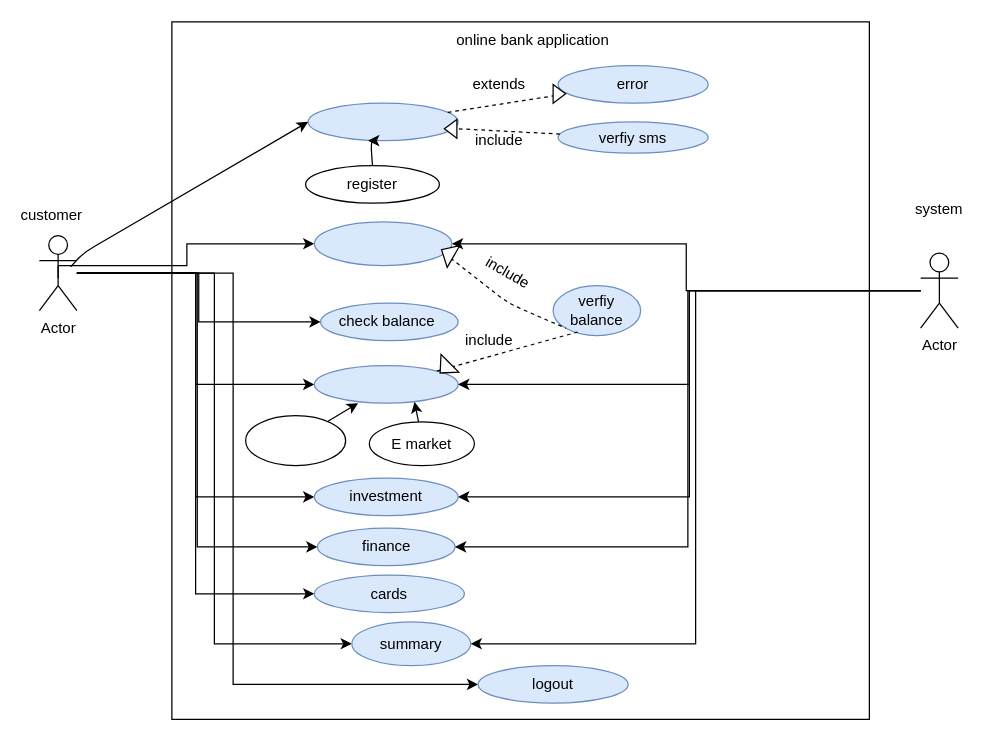
This 986x751 diagram has some shape labels left out. The shapes that lost their labels are listed below. From the top down, each one's centre as x and y in pixels, then its label:
At (x=382, y=121): "login".
At (x=382, y=243): "transfers".
At (x=385, y=383): "payment".
At (x=295, y=440): "bills".
